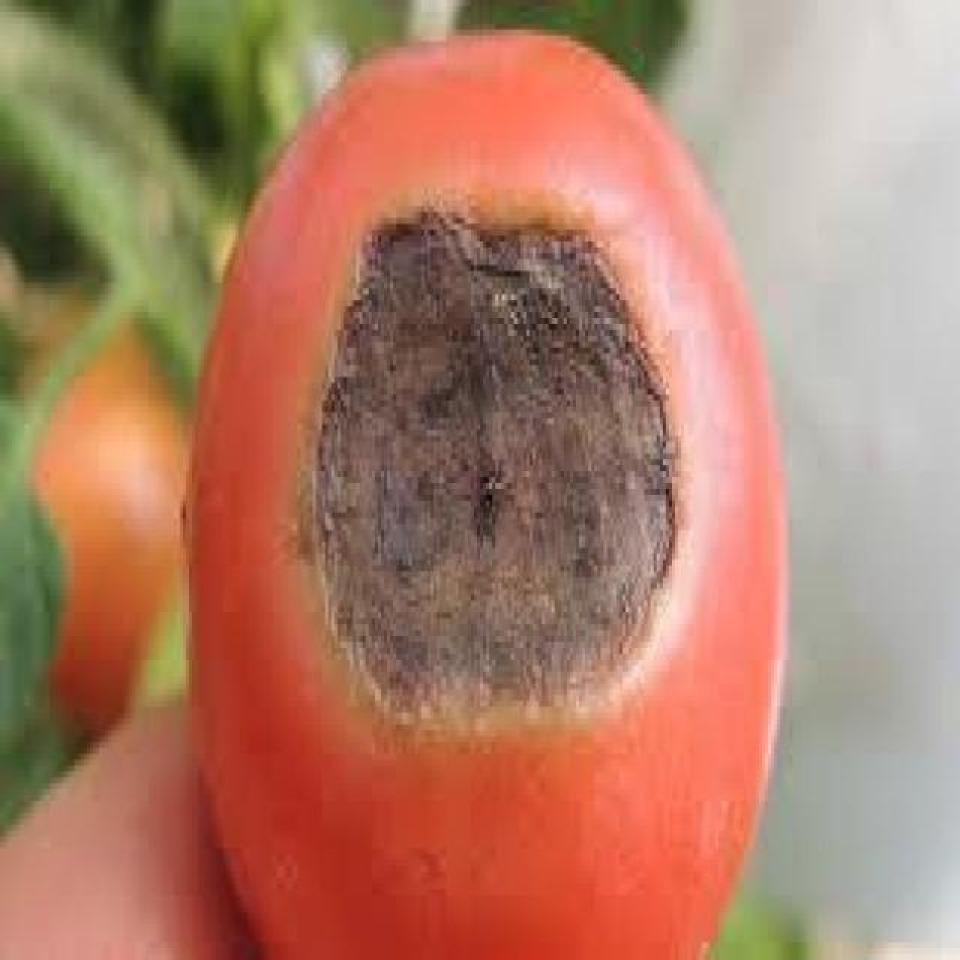Blossom_end_rot: (297, 189, 681, 731)
